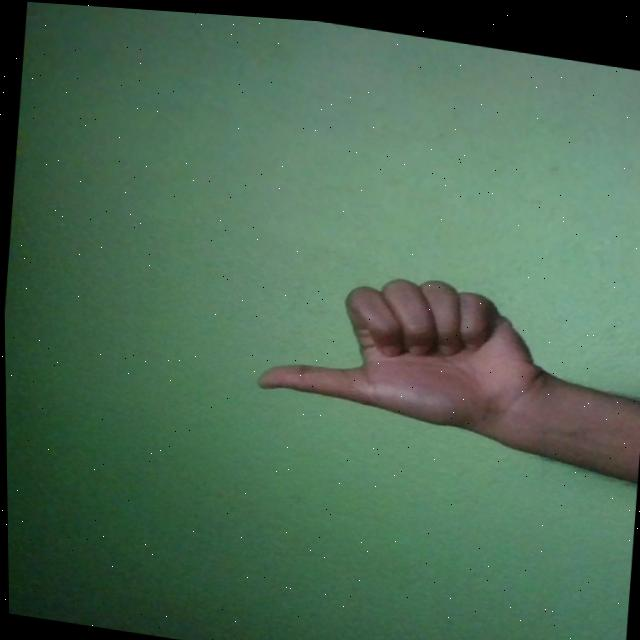Good Job: (251, 248, 553, 433)
